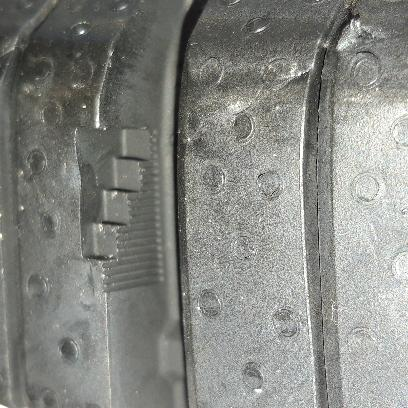temoin:100: (72, 122, 168, 297)
